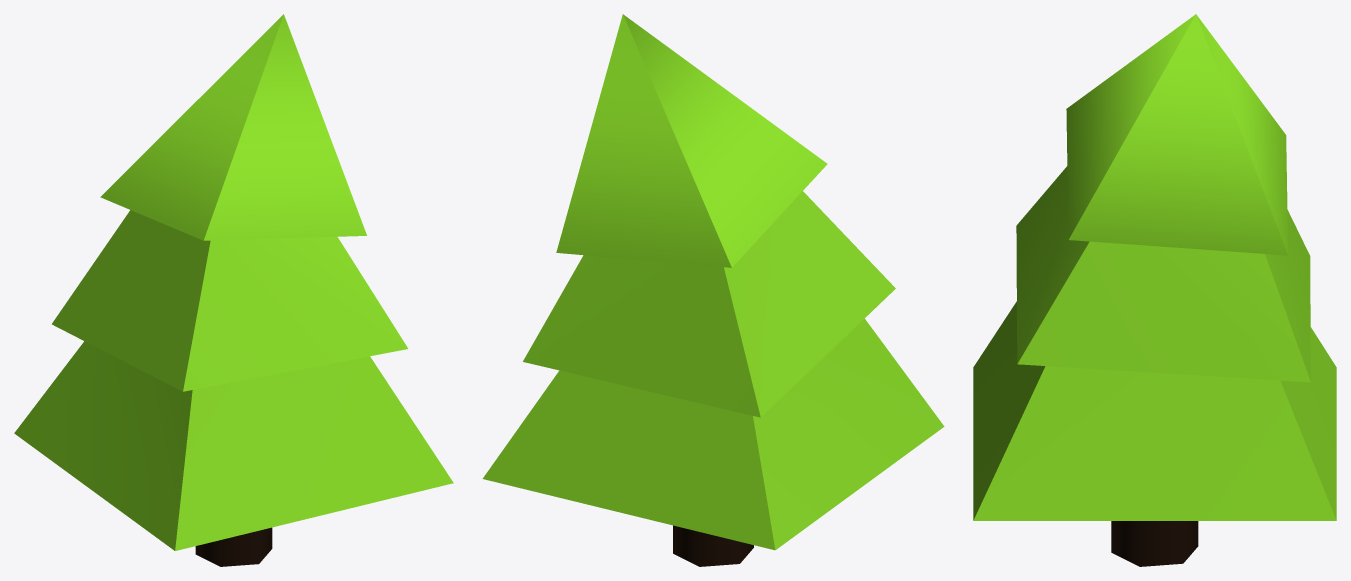
File: tree_small.FBX
The picture shows the model from 3 angles, left to right: view 1: azimuth 30°, elevation 25°; view 2: azimuth 150°, elevation 25°; view 3: azimuth 270°, elevation 25°; orthographic projection. The views are drawn at different scales.
Visible parts, largest first — view 1: Zylinder001; view 2: Zylinder001; view 3: Zylinder001.
Boxes of the visible parts, x1,y1,x2,y2 form: Zylinder001: (14, 14, 453, 566); Zylinder001: (482, 14, 944, 566); Zylinder001: (973, 14, 1336, 566).
Size of the model in its own units: 1.02 by 1.02 by 1.78.
